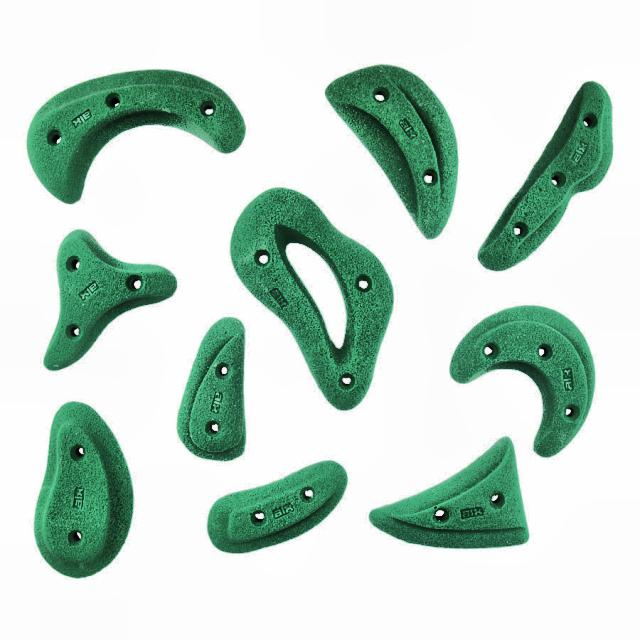Hold: (226, 190, 401, 410), (471, 80, 617, 272), (22, 74, 248, 196), (455, 298, 598, 454), (326, 58, 442, 235), (31, 406, 133, 580), (44, 230, 171, 368), (370, 456, 555, 546), (210, 459, 350, 559), (178, 320, 257, 460)
